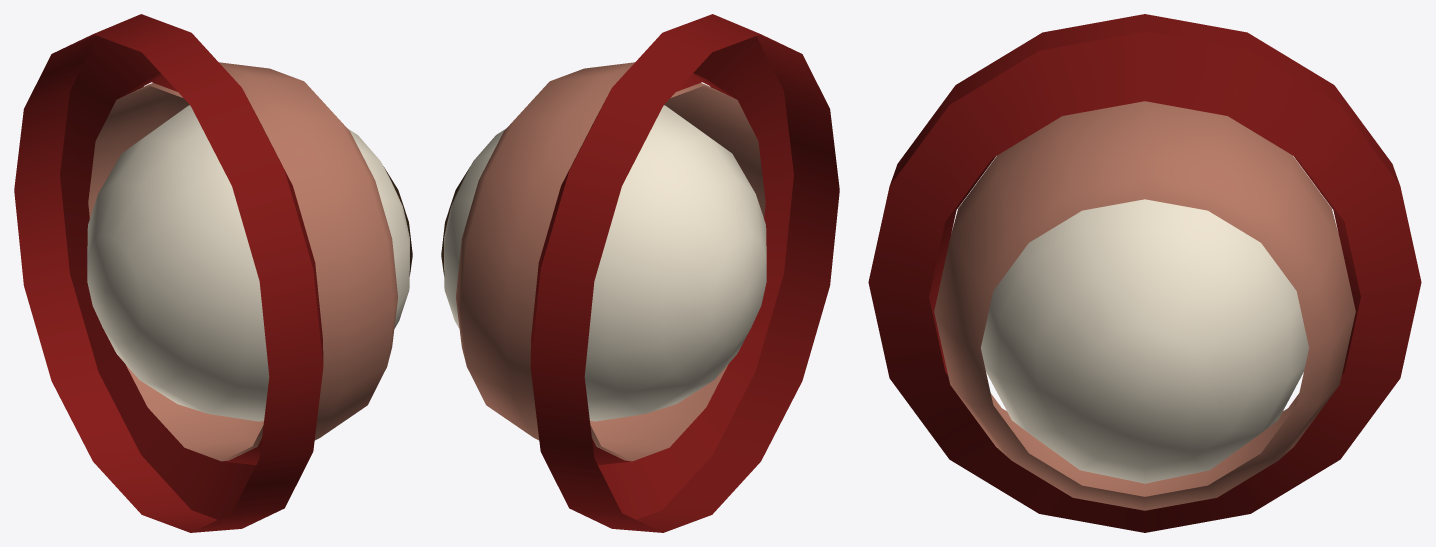
The model's file is e18_eye.glb.
The picture shows the model from 3 angles, left to right: view 1: azimuth 30°, elevation 25°; view 2: azimuth 150°, elevation 25°; view 3: azimuth 270°, elevation 25°; orthographic projection. The views are drawn at different scales.
Parts seen in each view (by area): view 1: teil4, teil0, teil3; view 2: teil4, teil0, teil3; view 3: teil4, teil0, teil3.
Boxes of the visible parts, x1,y1,x2,y2 form: teil4: (14,14,323,532); teil0: (87,105,409,421); teil3: (88,62,397,461); teil4: (530,14,839,532); teil0: (444,105,766,421); teil3: (456,62,765,461); teil4: (868,14,1421,532); teil0: (981,199,1308,483); teil3: (934,101,1355,510).
Size of the model in its own units: 0.025 by 0.04 by 0.04.
